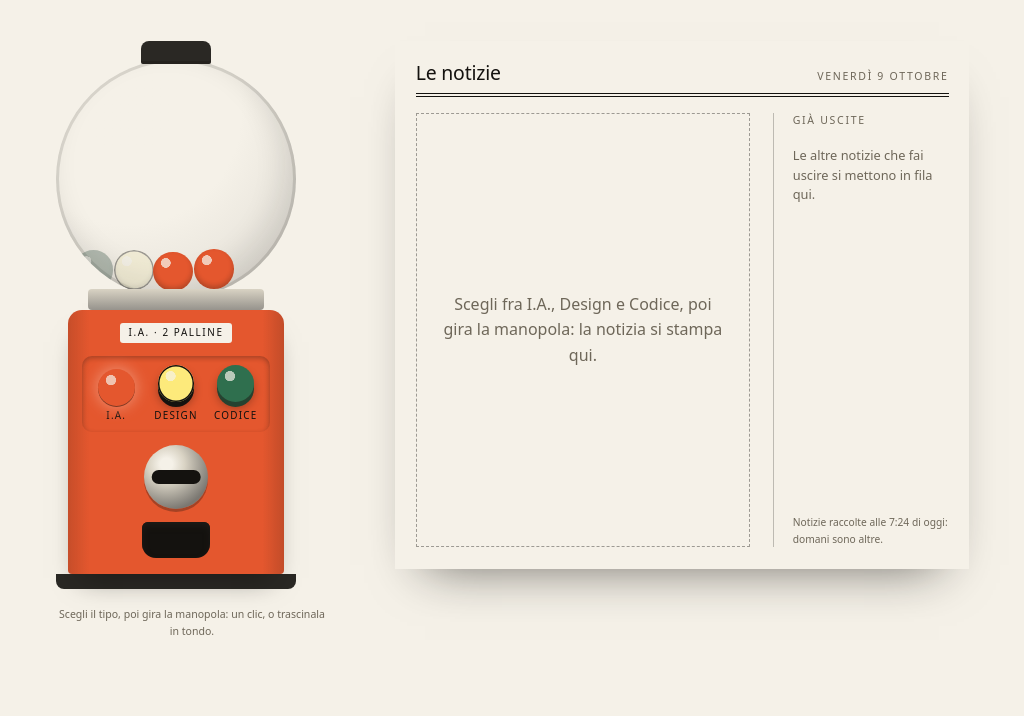
Scenario: le notizie: il giro › finita una categoria lo dice al posto della notizia, e le gia' uscite restano
The image size is (1024, 716).
(page scrolled)
Click the button named "Gira la manopola: esce una notizia" at (176, 477), box [144, 445, 208, 509]
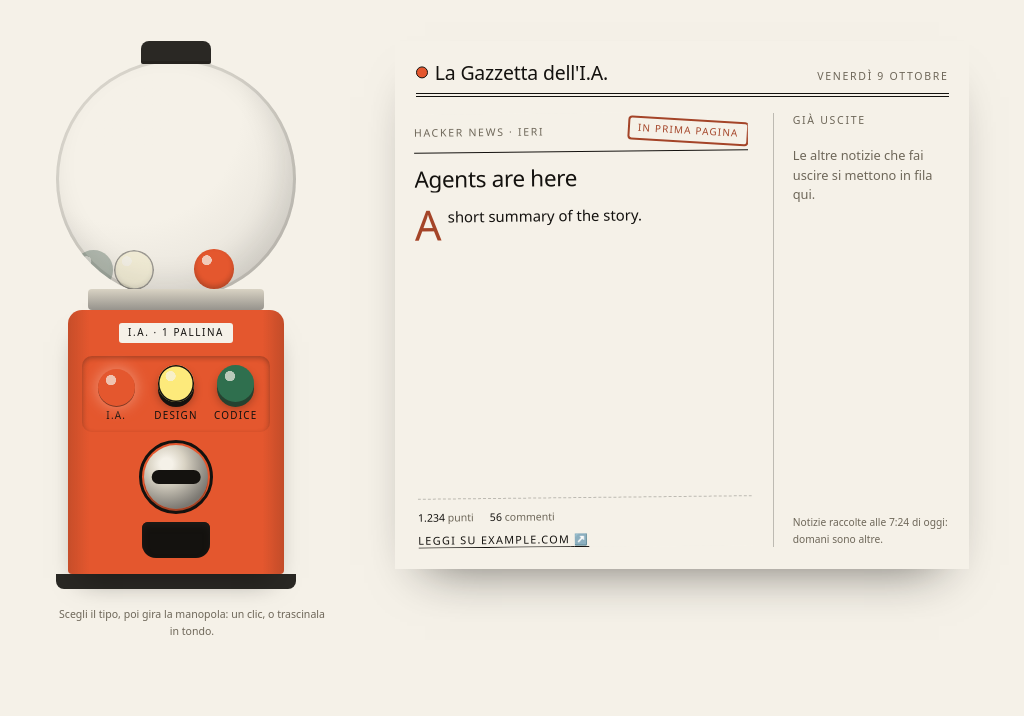
Click the button "Design" at (176, 394), box [149, 364, 203, 425]
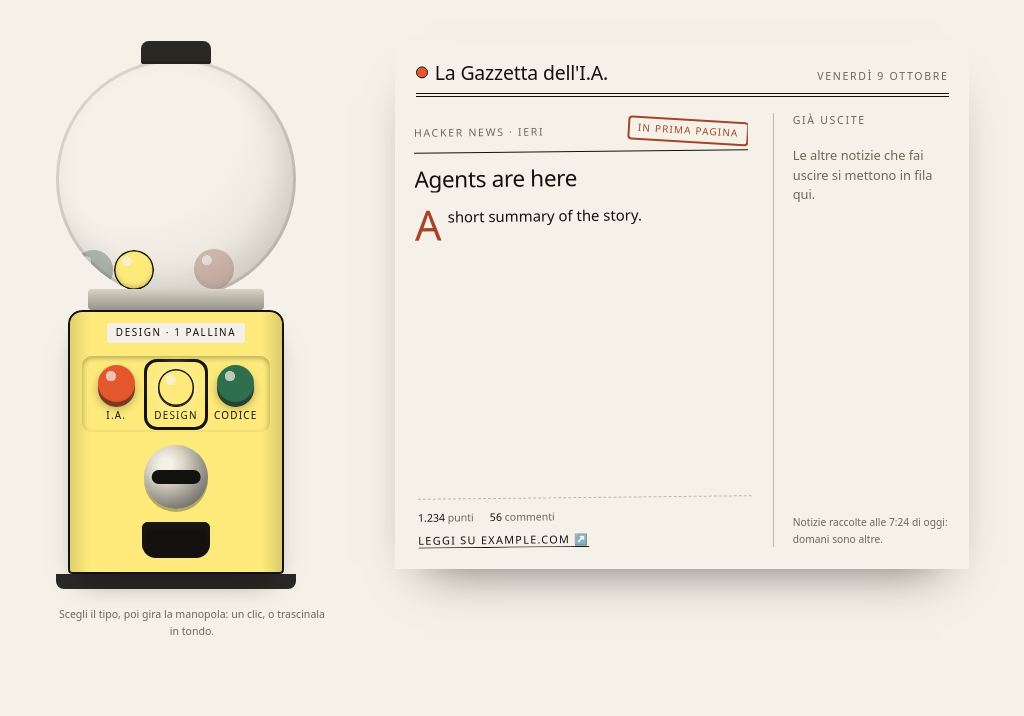
Click the button named "Gira la manopola: esce una notizia" at (176, 477), box [144, 445, 208, 509]
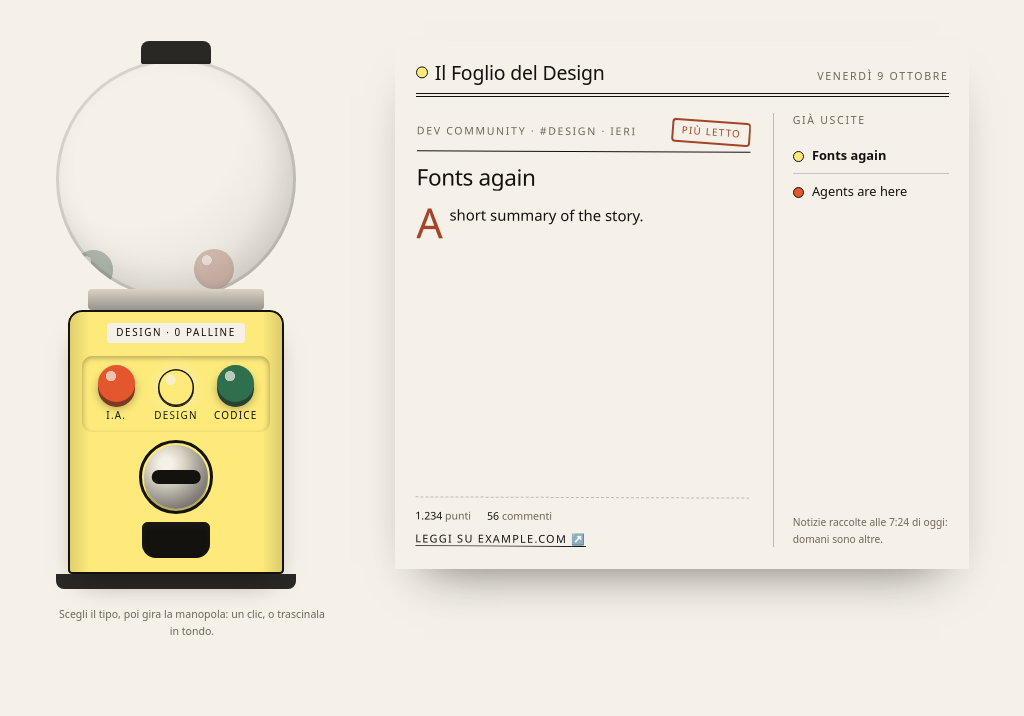
Check: the element that starts with "DEV Community · #design" shows "Fonts again", box [416, 162, 535, 193]
Click the button named "Gira la manopola: esce una notizia" at (176, 477), box [144, 445, 208, 509]
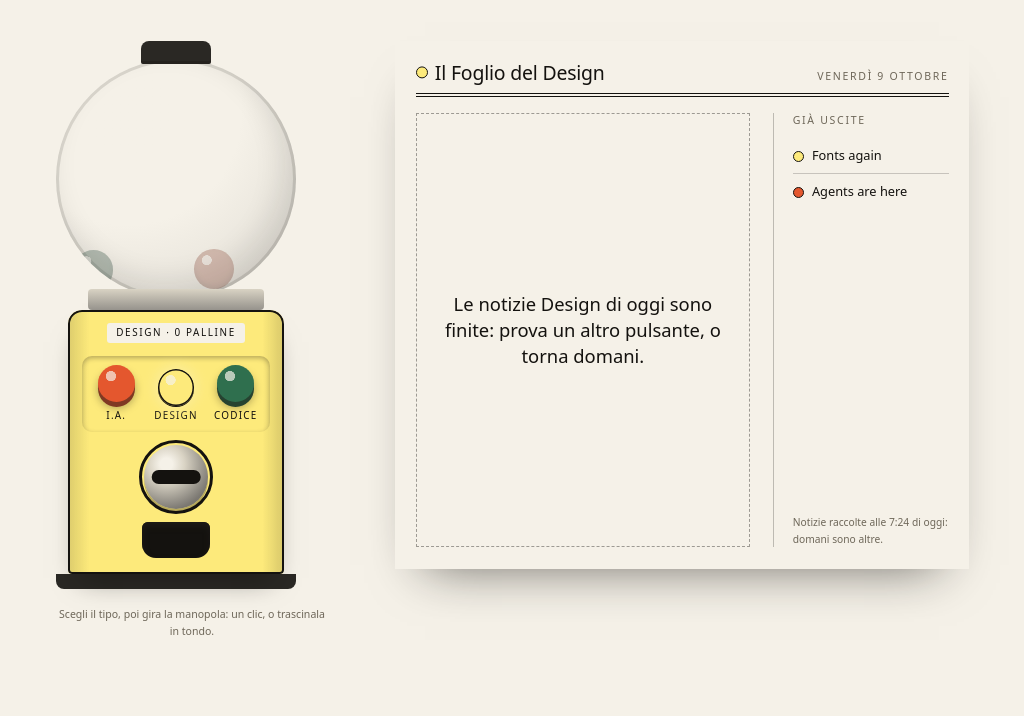
Check: the message reads "Le notizie Design di oggi sono finite: prova un altro pulsante, o torna domani.", box [445, 291, 721, 368]
Note: Si torna a una notizia gia' uscita, e l'avviso tace.
Click the button "Agents are here" at (871, 192), box [793, 174, 948, 209]
(page scrolled)
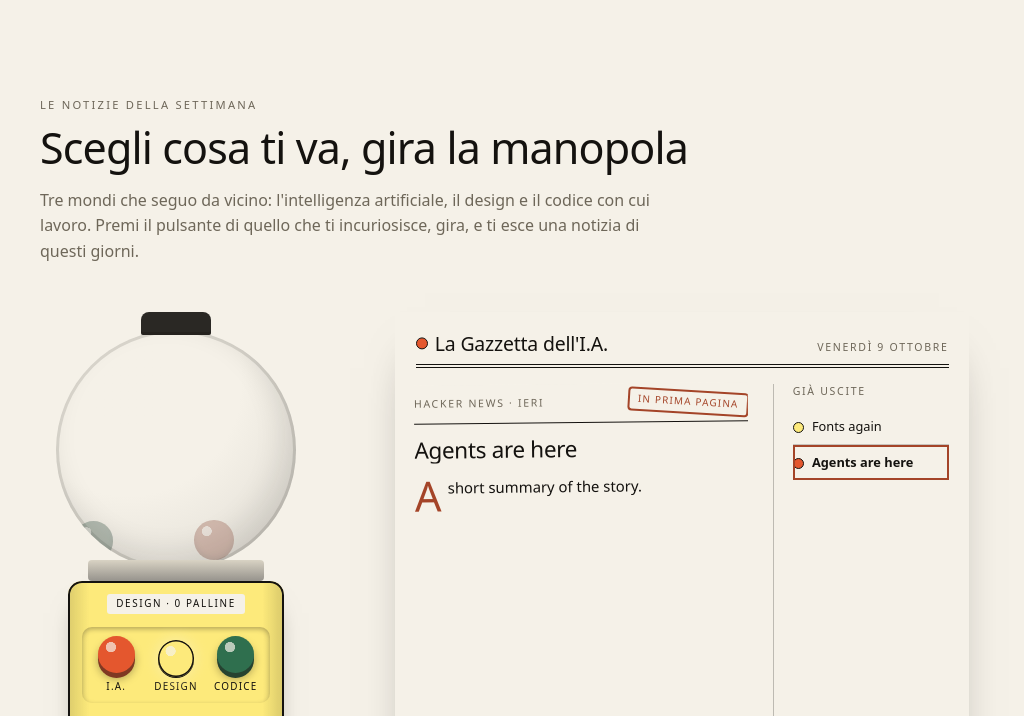
Check: the element that starts with "Hacker News" shows "Agents are here", box [414, 433, 577, 466]
